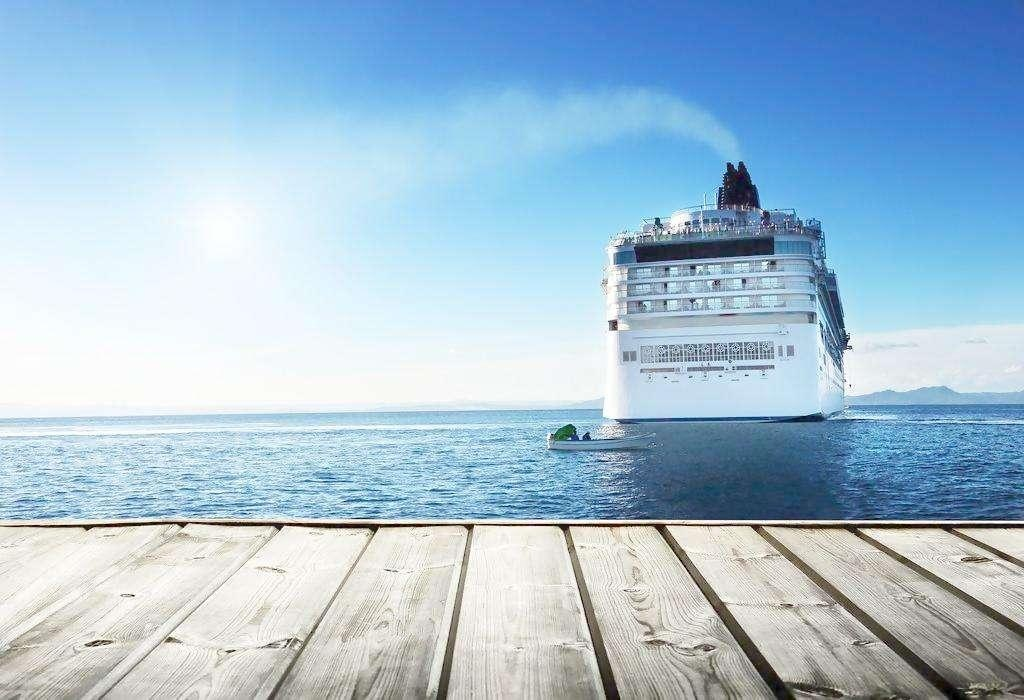otherboat: (544, 420, 661, 452)
youlun: (601, 158, 851, 424)
